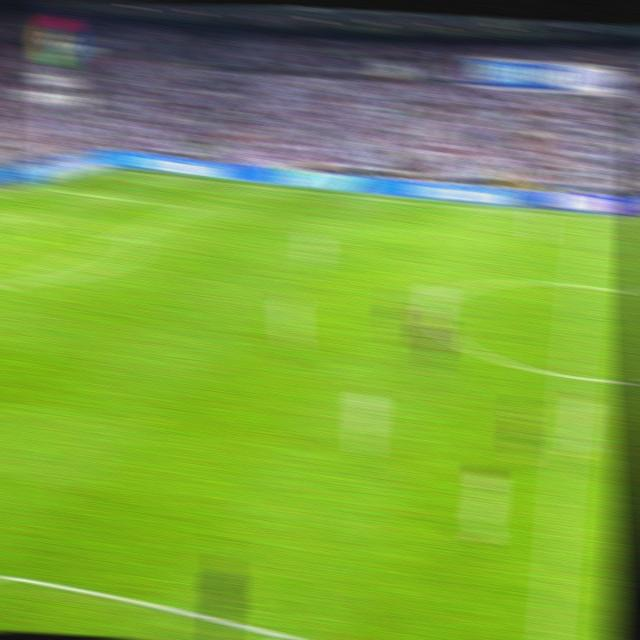halfcircle_bottom: (558, 358, 584, 391)
halfcircle_top: (568, 271, 593, 298)
midline_top_intersection: (576, 212, 597, 226)
top_arc_area_intersection: (116, 226, 137, 242)
